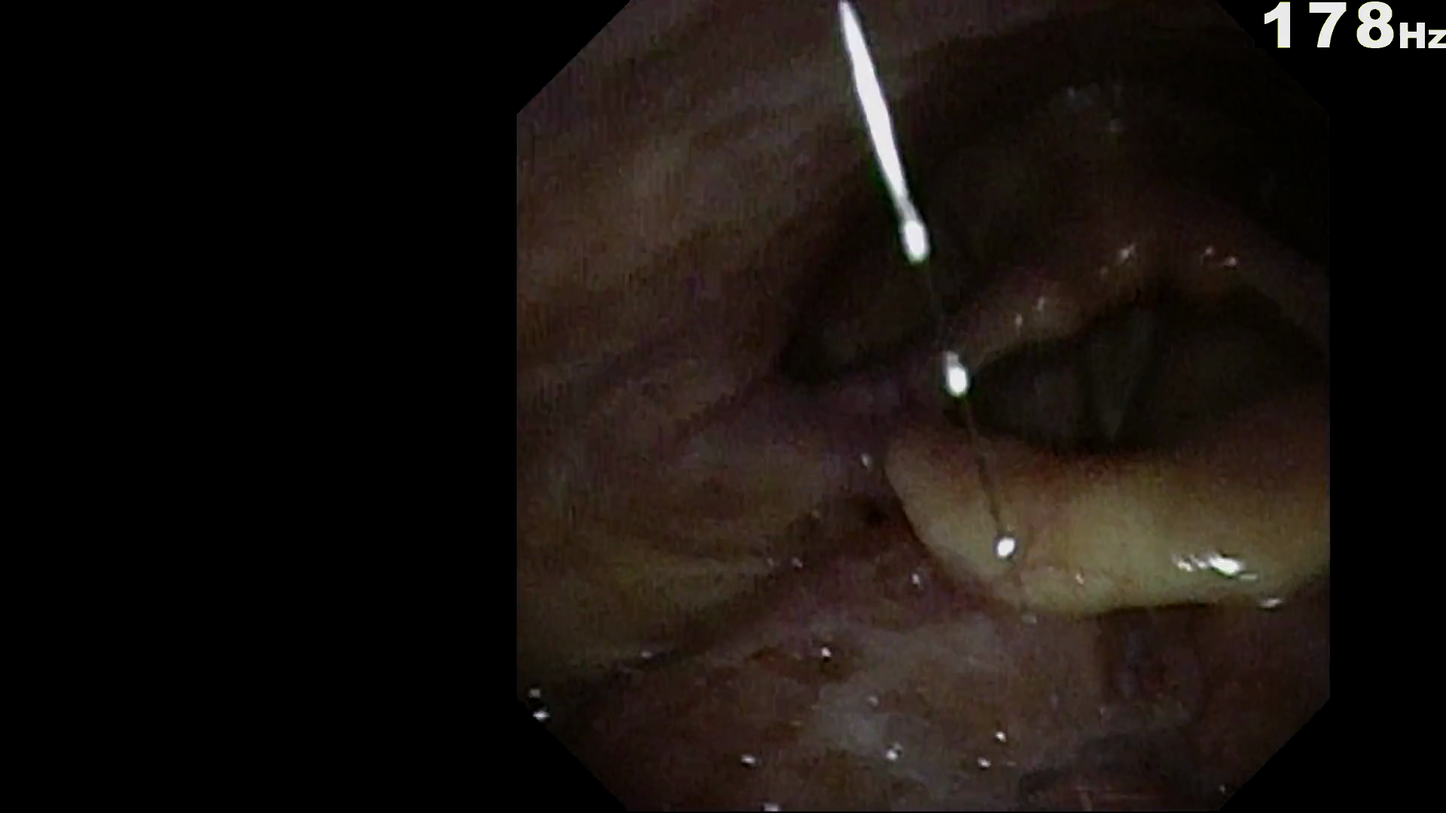epiglottis: (868, 425, 1318, 642)
trachea: (1047, 319, 1193, 473)
